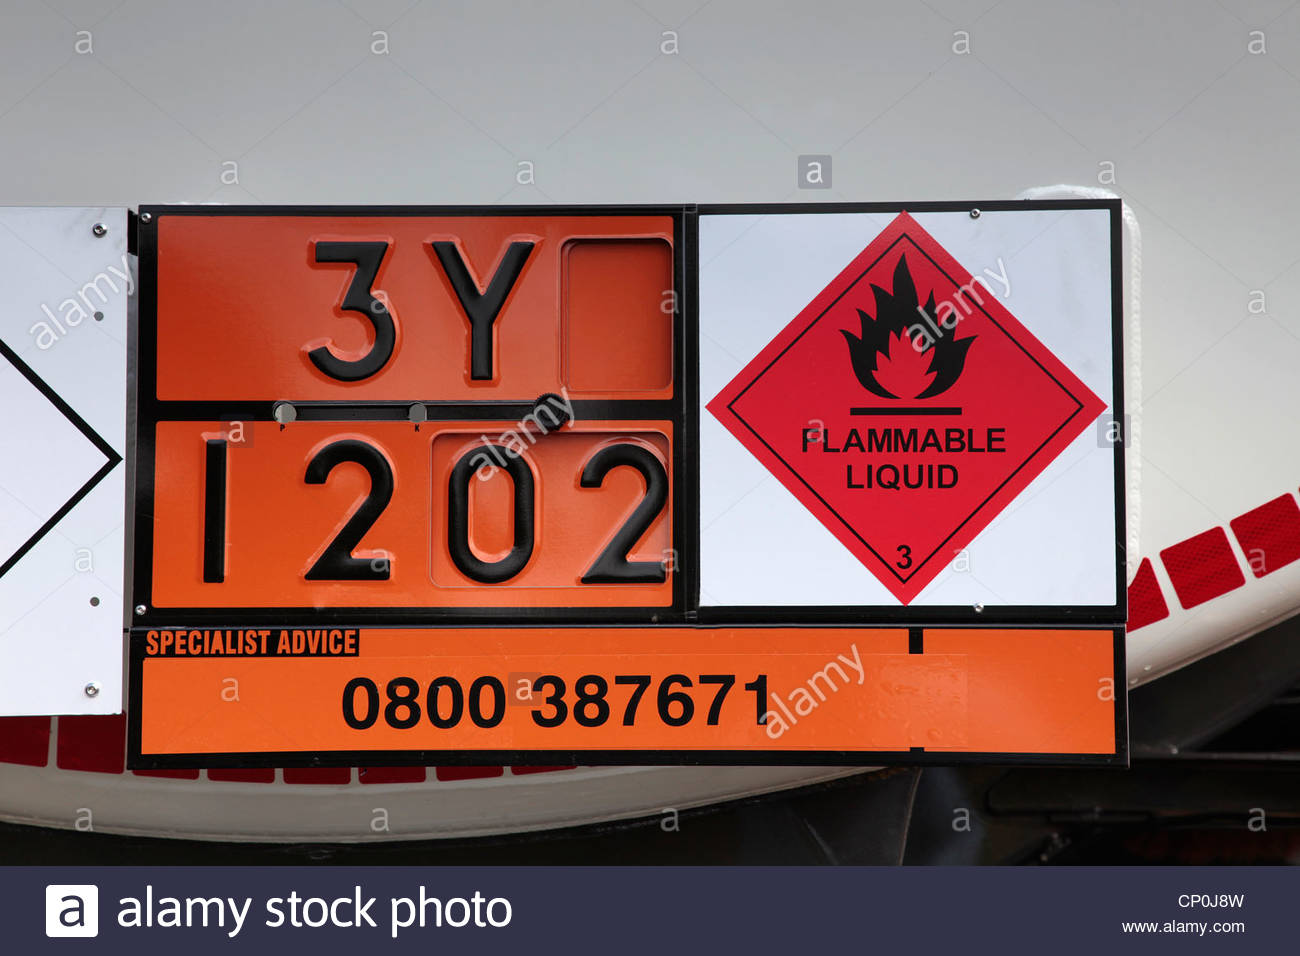FlammableLiquid: (724, 229, 1108, 591)
